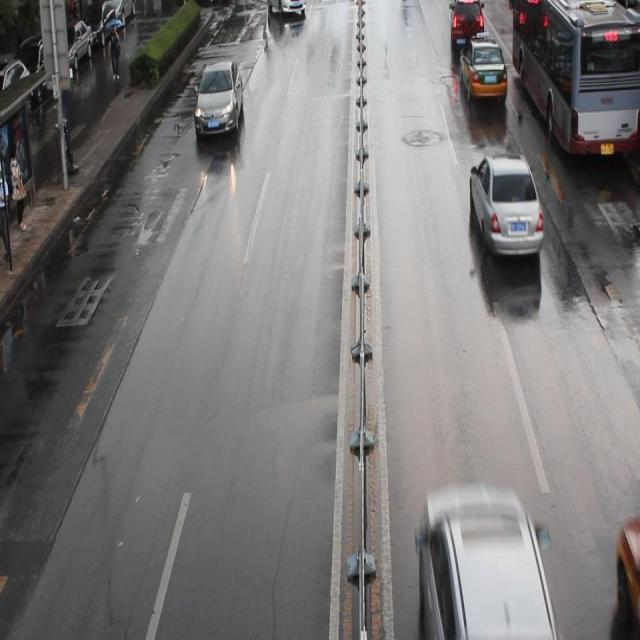car: (418, 484, 560, 640), (468, 154, 542, 254), (194, 59, 242, 138), (613, 514, 640, 640), (458, 36, 506, 97), (449, 1, 483, 45), (265, 1, 306, 14)
van: (510, 1, 640, 157)
